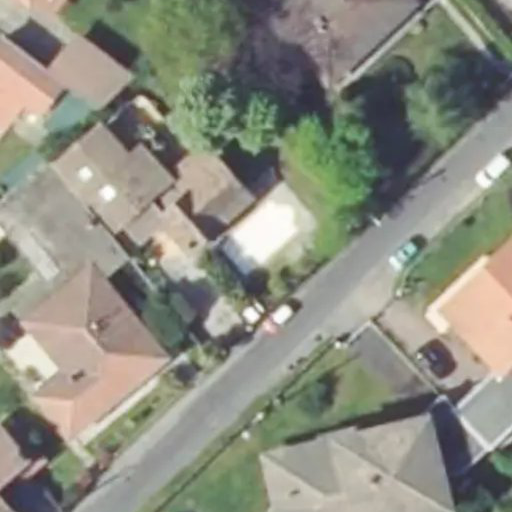pool: (227, 197, 303, 276)
